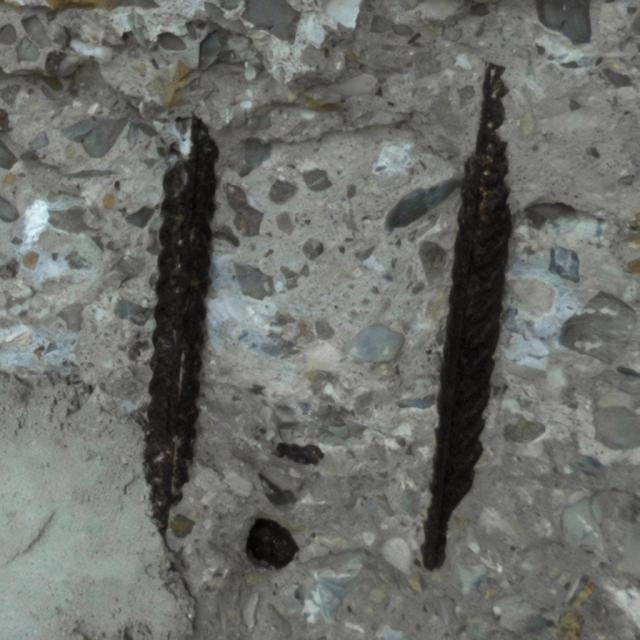D0w0: (418, 59, 513, 569), (142, 114, 221, 633)
